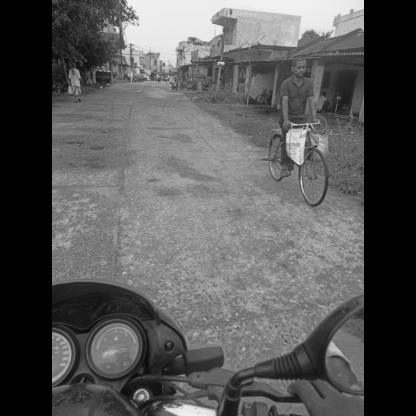Bicycle: (263, 115, 337, 217)
